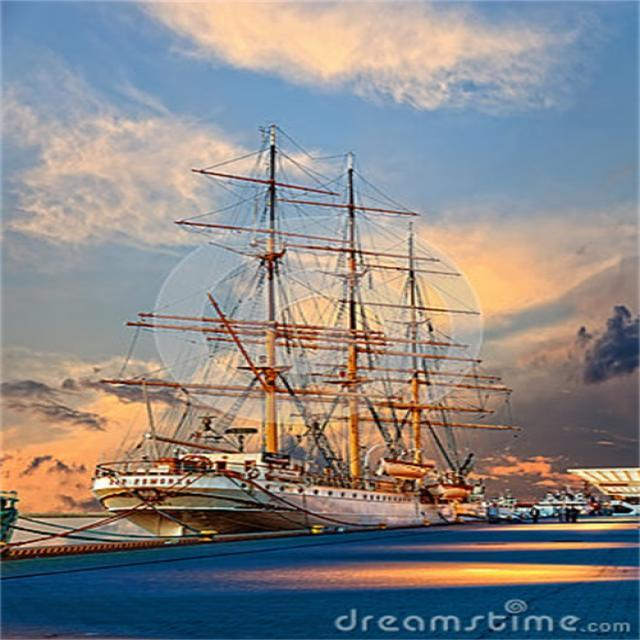Ship: (96, 93, 491, 531)
